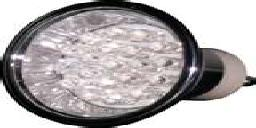LED: (10, 7, 184, 120)
